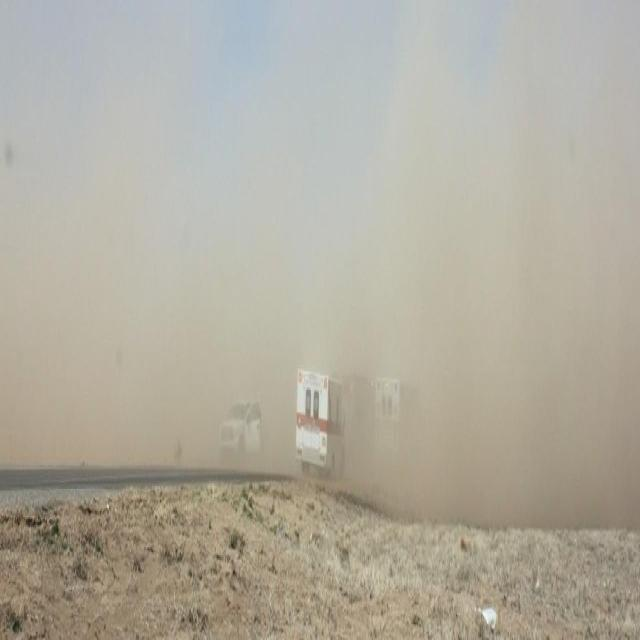Car: (218, 396, 262, 463)
Van: (294, 366, 347, 478), (374, 375, 429, 469)
